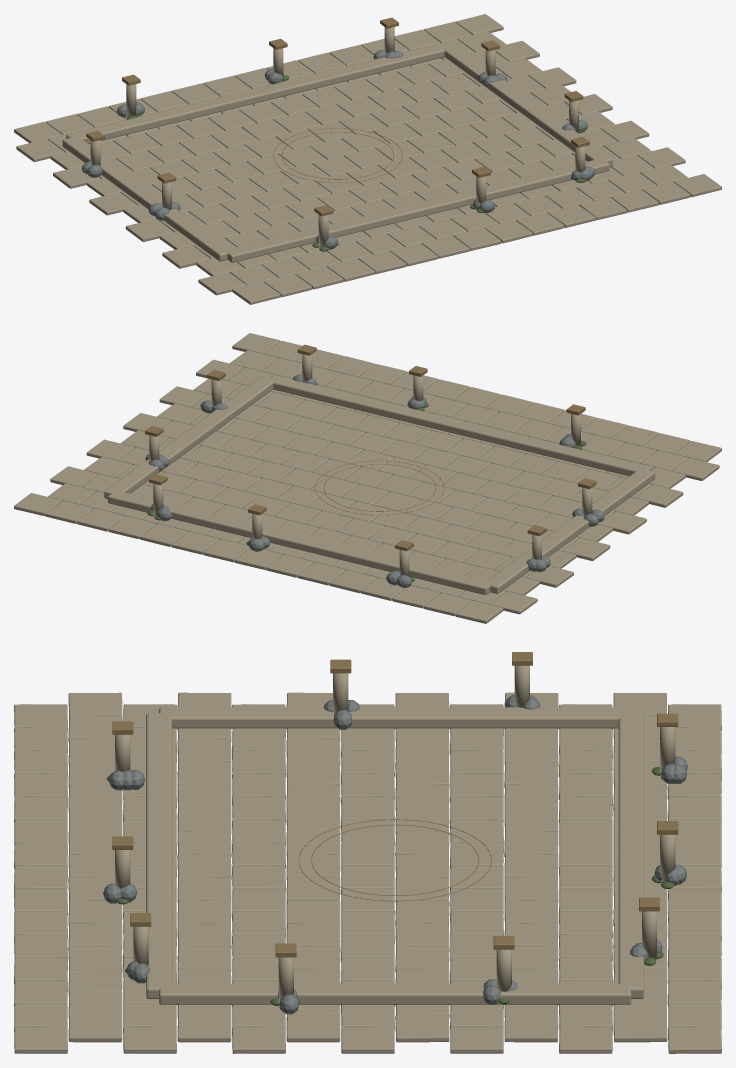
File: gray_meadow_raid.glb
3 views of the same model, one above another, from view 1: azimuth 30°, elevation 25°; view 2: azimuth 150°, elevation 25°; view 3: azimuth 270°, elevation 25° (orthographic). The views are drawn at different scales.
Visible parts, largest first — view 1: gray_meadow_raid Geometry; view 2: gray_meadow_raid Geometry; view 3: gray_meadow_raid Geometry.
Boxes of the visible parts, x1=… form: gray_meadow_raid Geometry: x1=14, y1=14, x2=721, y2=304; gray_meadow_raid Geometry: x1=14, y1=333, x2=721, y2=623; gray_meadow_raid Geometry: x1=14, y1=652, x2=721, y2=1053.
Bounding box in the file's own units: 46.48 × 3.9 × 38.98.
